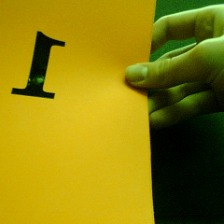orange1: (8, 26, 69, 104)
